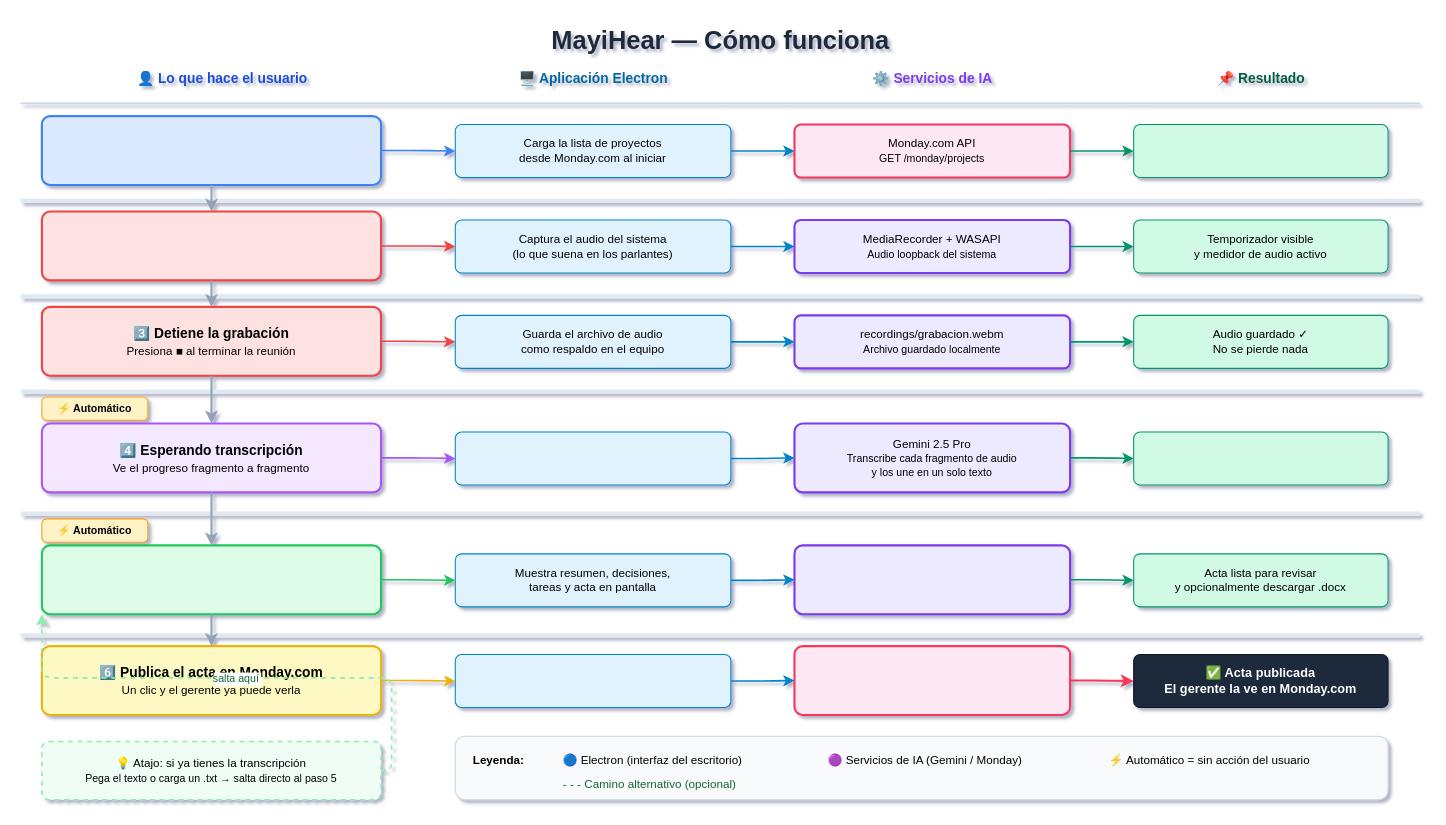
This 1446x825 diagram has some shape labels left out. The shapes that lost their labels are listed below. From the top down, each one's box as (x1, y1, x2, y2) in pixels, then its label:
(40, 114, 382, 186): 1️⃣ Selecciona el proyecto ¿Para qué reunión es esto?
(1133, 123, 1388, 178): Lista de proyectos disponible en pantalla
(40, 210, 382, 281): 2️⃣ Graba la reunión Presiona ● para iniciar
(454, 431, 731, 485): Divide el audio en fragmentos de 30 min y envía a la IA
(1133, 431, 1388, 485): Texto completo de todo lo que se habló en la reunión
(40, 544, 382, 615): 5️⃣ Revisa insights y acta Resumen · Decisiones · Tareas · Acta completa
(793, 544, 1071, 615): Gemini 2.5 Flash Analiza el texto y genera: insights estructurados + acta formal
(454, 653, 731, 708): Envía el acta al proyecto seleccionado en el paso 1
(793, 644, 1071, 716): Monday.com API POST /monday/publish-acta → actualiza columna del proyecto
